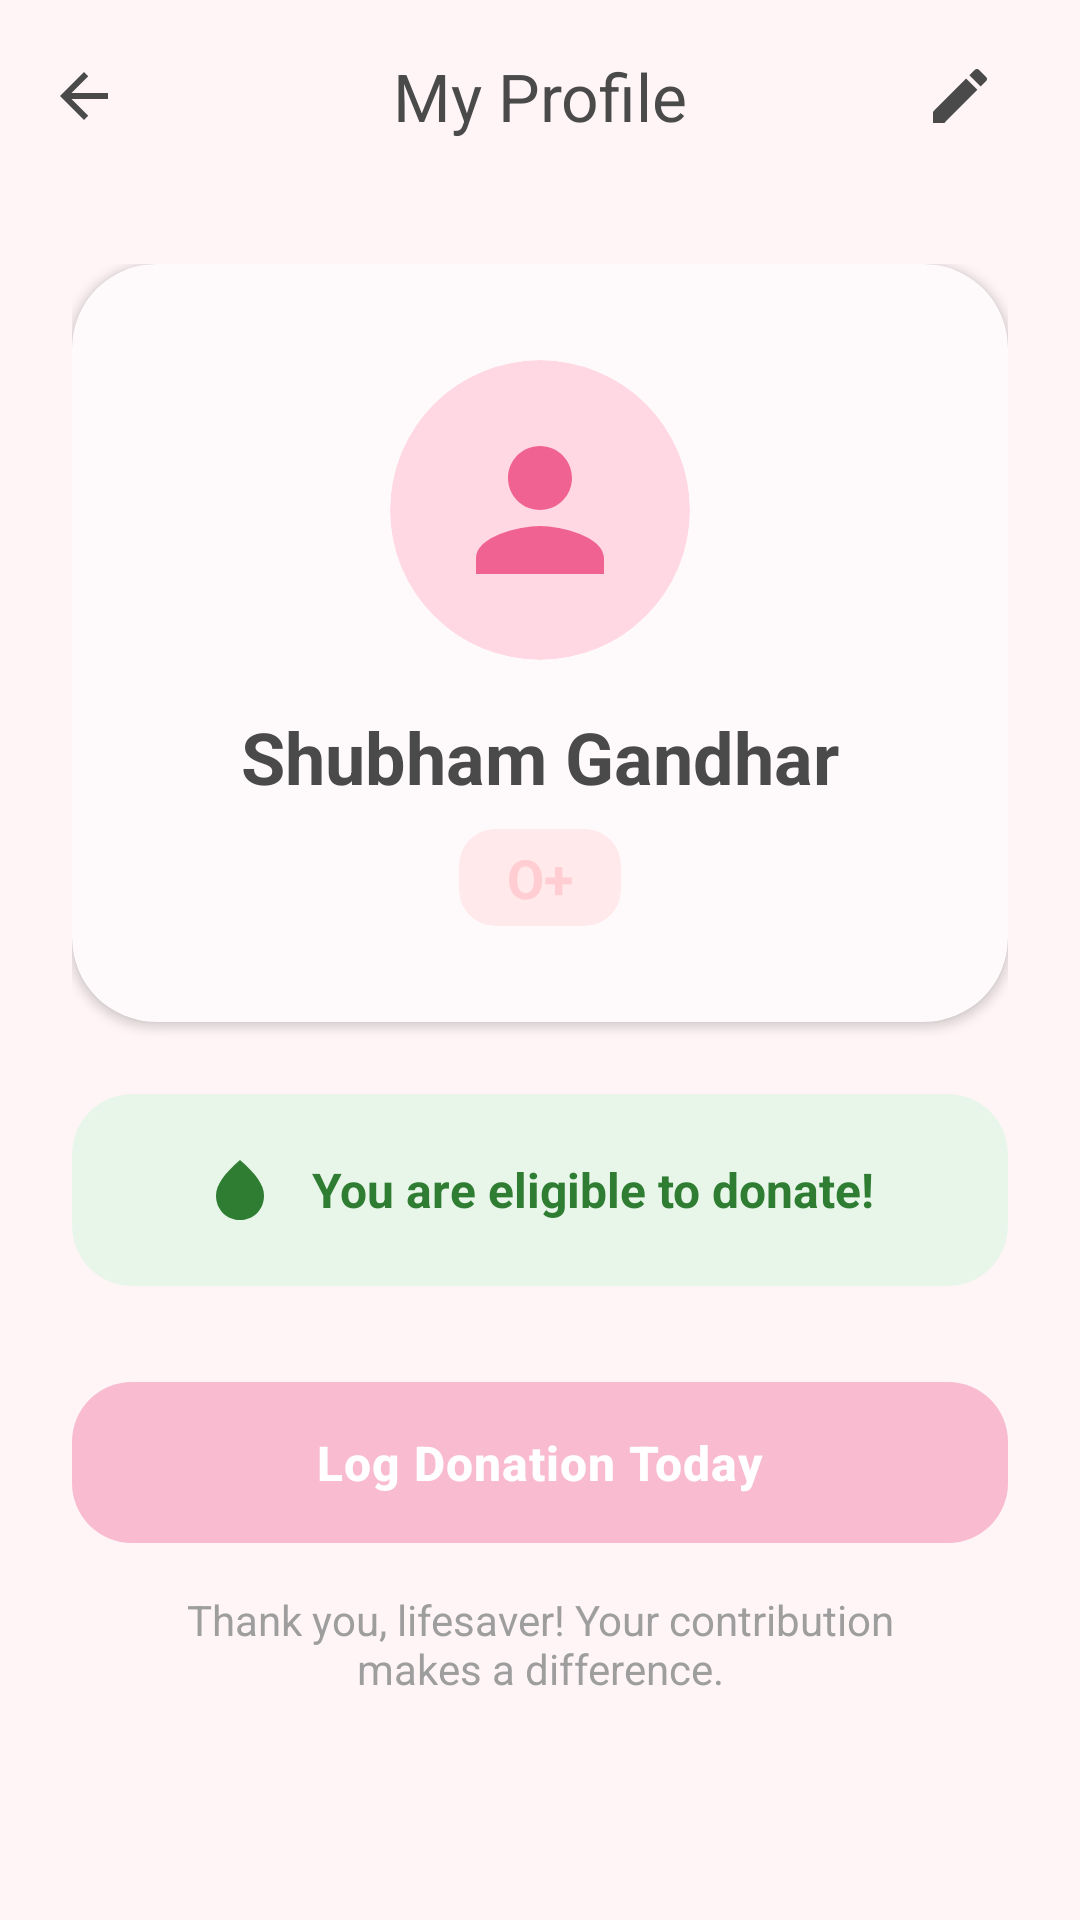

Named icons in this screenshot (1080 × 1920) and their centers, [x,y]:
Edit: [960,96]
Profile Photo: [540,510]
